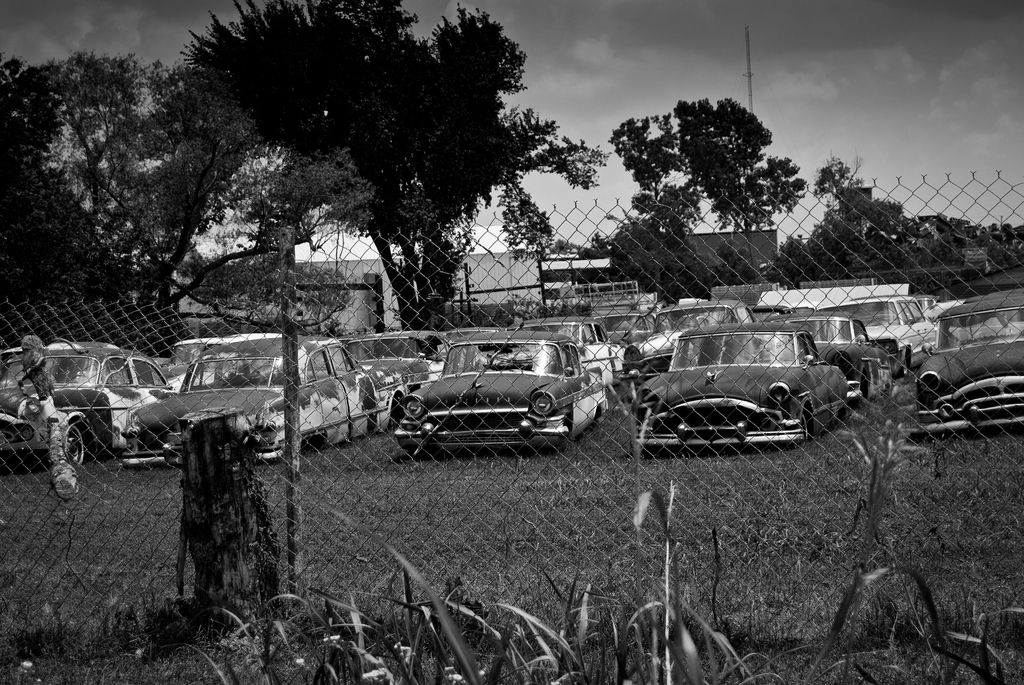Car: (0, 284, 1022, 465)
